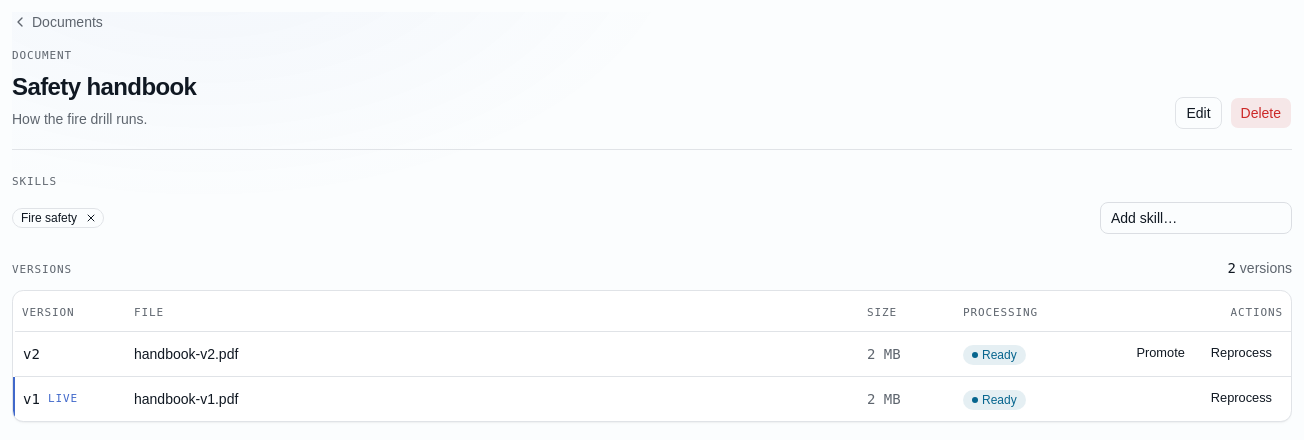
it: DocumentDetailPage › offers only skills the document does not already have, and attaches one
Expected: the heading "Safety handbook" is shown, [12, 70, 196, 102]
Select "Evacuation" in the dropdown named "Add skill" at {"x": 1196, "y": 218}, box [1100, 202, 1292, 234]
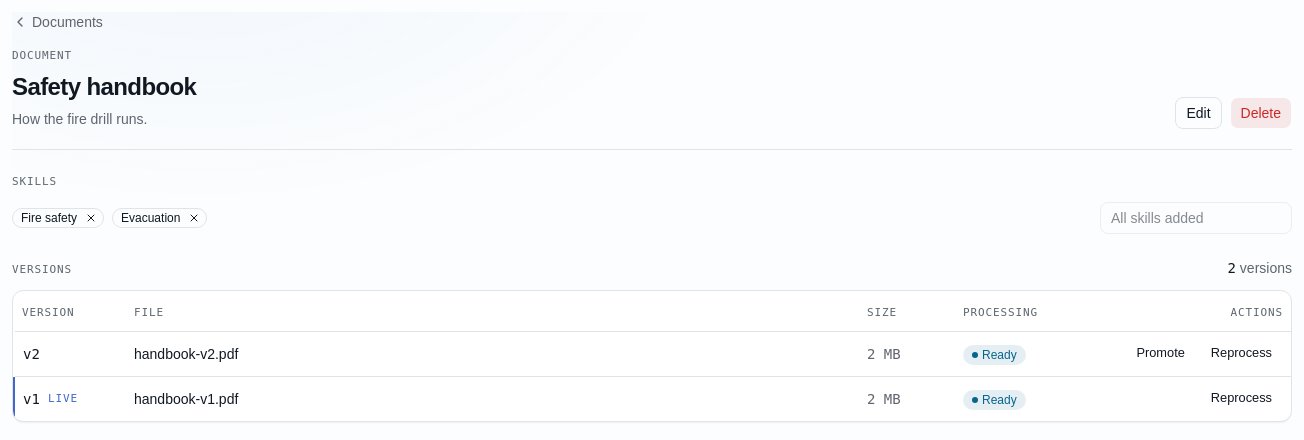
Now the button named "Remove Evacuation" is shown, box [186, 210, 202, 226]
